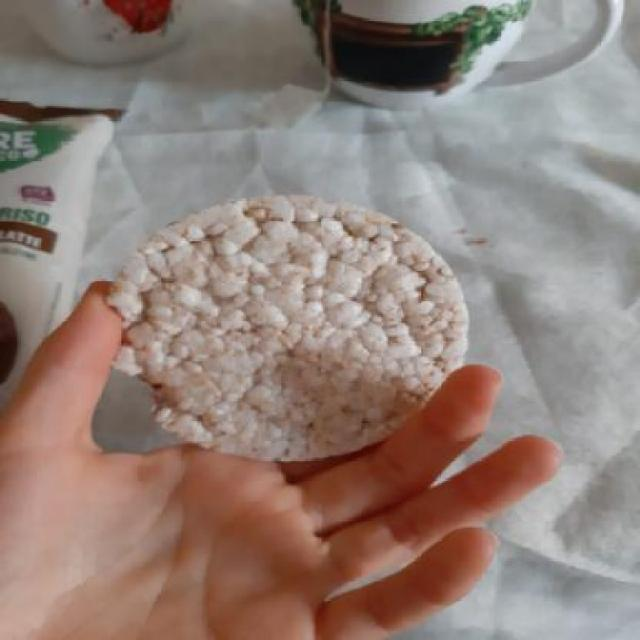Gallette di riso packaged: (97, 196, 477, 469)
